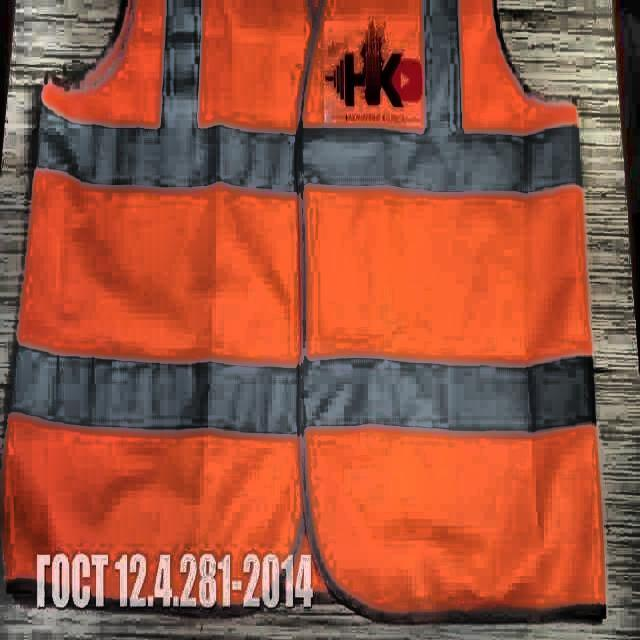safety_jacket: (0, 0, 609, 622)
